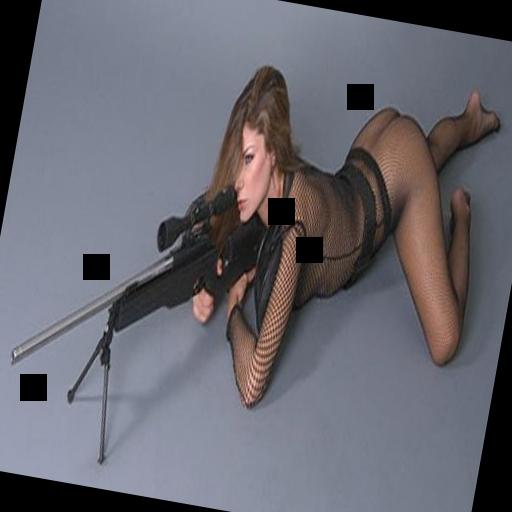Handgun: (94, 133, 284, 394)
